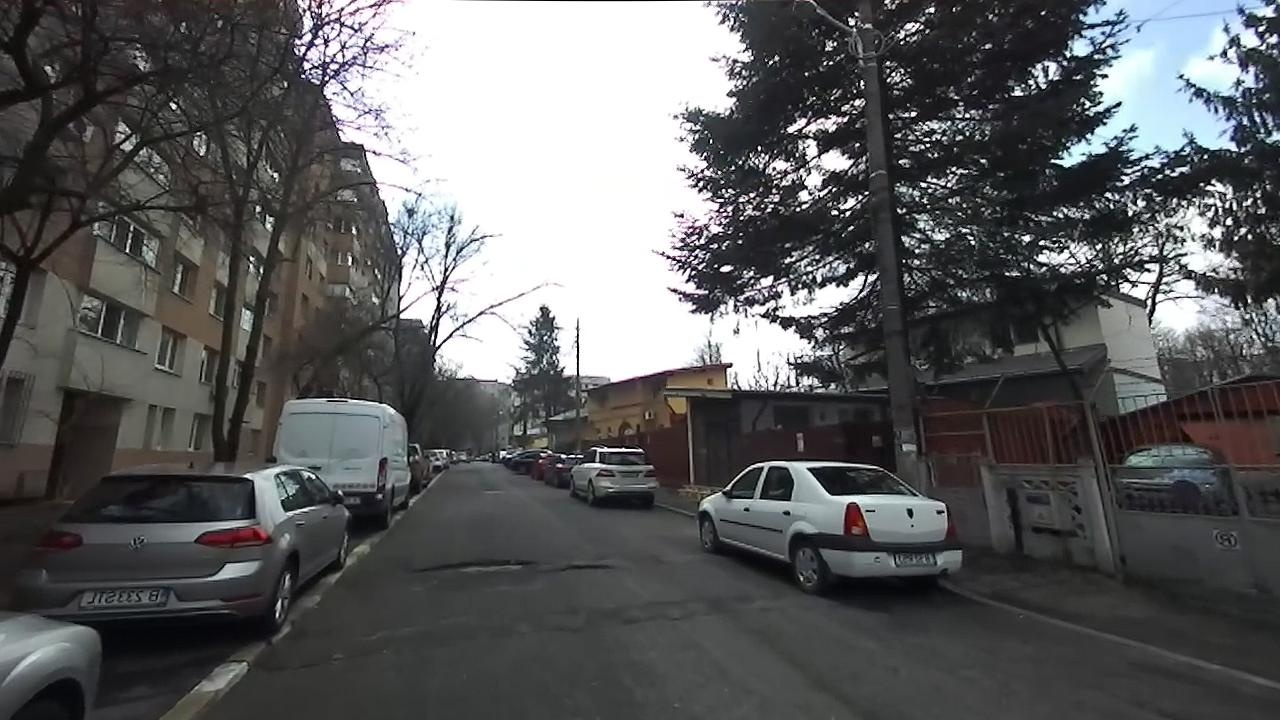pothole: (410, 556, 535, 578), (551, 560, 614, 573)
